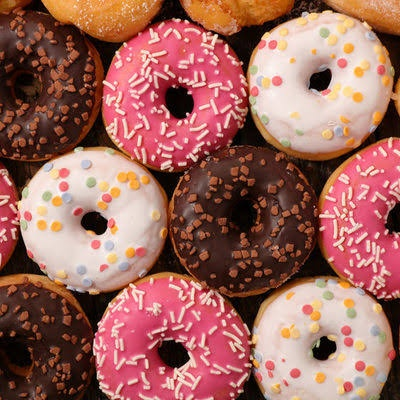doughunut: (169, 144, 318, 296), (247, 11, 394, 159), (103, 19, 246, 171), (21, 147, 165, 293), (94, 271, 251, 400), (251, 277, 395, 400), (0, 7, 102, 159), (319, 137, 400, 300), (0, 275, 95, 400), (3, 148, 54, 272), (38, 0, 167, 41), (178, 0, 299, 37), (321, 0, 400, 36), (0, 156, 19, 272), (0, 0, 38, 27), (0, 0, 34, 15)
